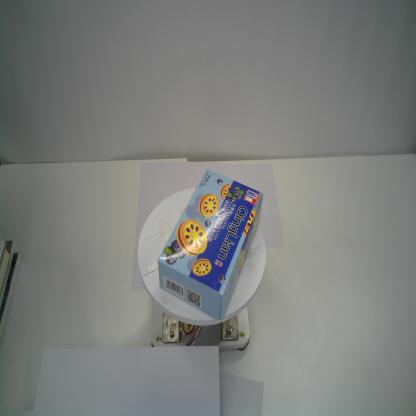Dessert: (156, 166, 265, 322)
